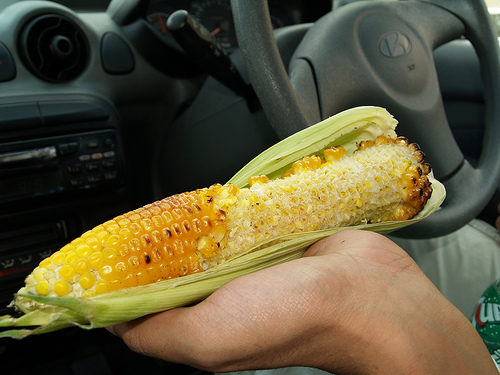corn: (0, 102, 445, 341)
